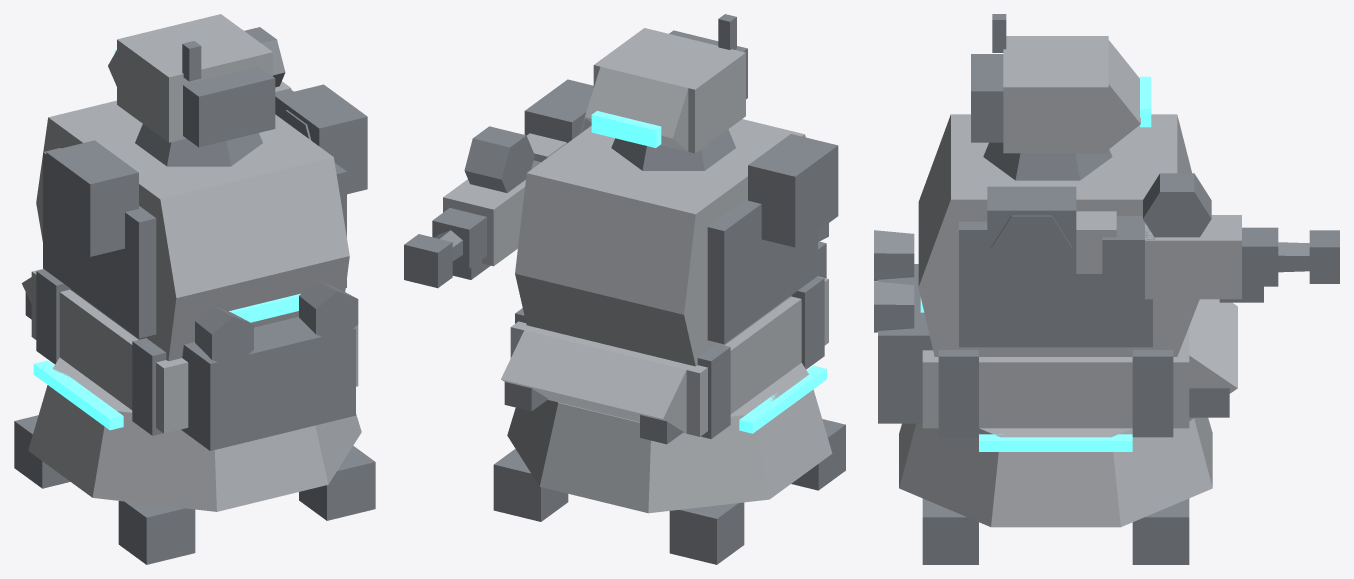
File: guard.glb
3 renders of one model, left to right at view 1: azimuth 30°, elevation 25°; view 2: azimuth 150°, elevation 25°; view 3: azimuth 270°, elevation 25°, orthographic. The views are drawn at different scales.
Parts seen in each view (by area): view 1: guard_hull, weapon_arm; view 2: guard_hull, weapon_arm; view 3: guard_hull, weapon_arm.
Part boxes in pixels (bbox=[...]): guard_hull: bbox=[14, 14, 375, 564]; weapon_arm: bbox=[244, 27, 311, 140]; guard_hull: bbox=[493, 14, 845, 564]; weapon_arm: bbox=[404, 117, 591, 288]; guard_hull: bbox=[874, 14, 1237, 564]; weapon_arm: bbox=[991, 173, 1339, 302].
Bounding box in the file's own units: 0.805 × 1.3 × 1.15.
